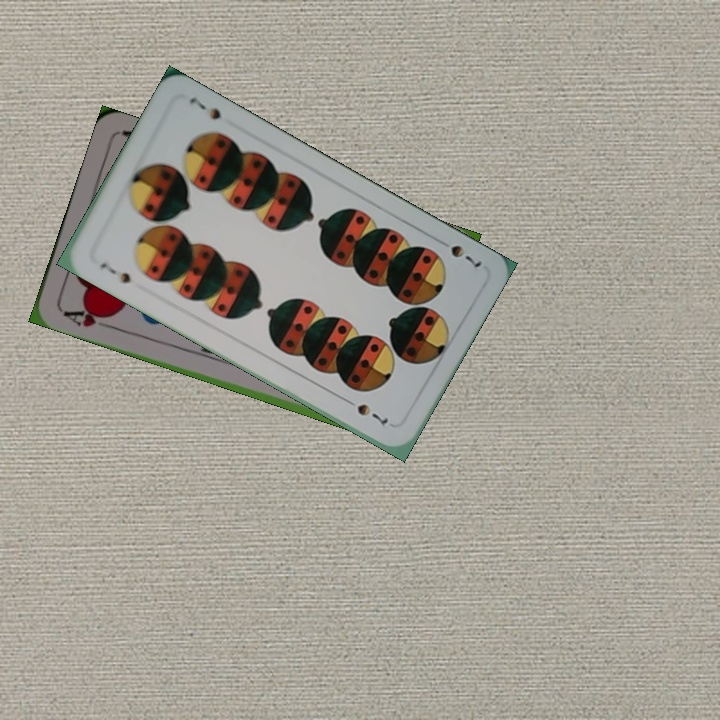HA: (59, 303, 116, 331)
S7: (432, 234, 485, 270), (95, 258, 134, 287)
